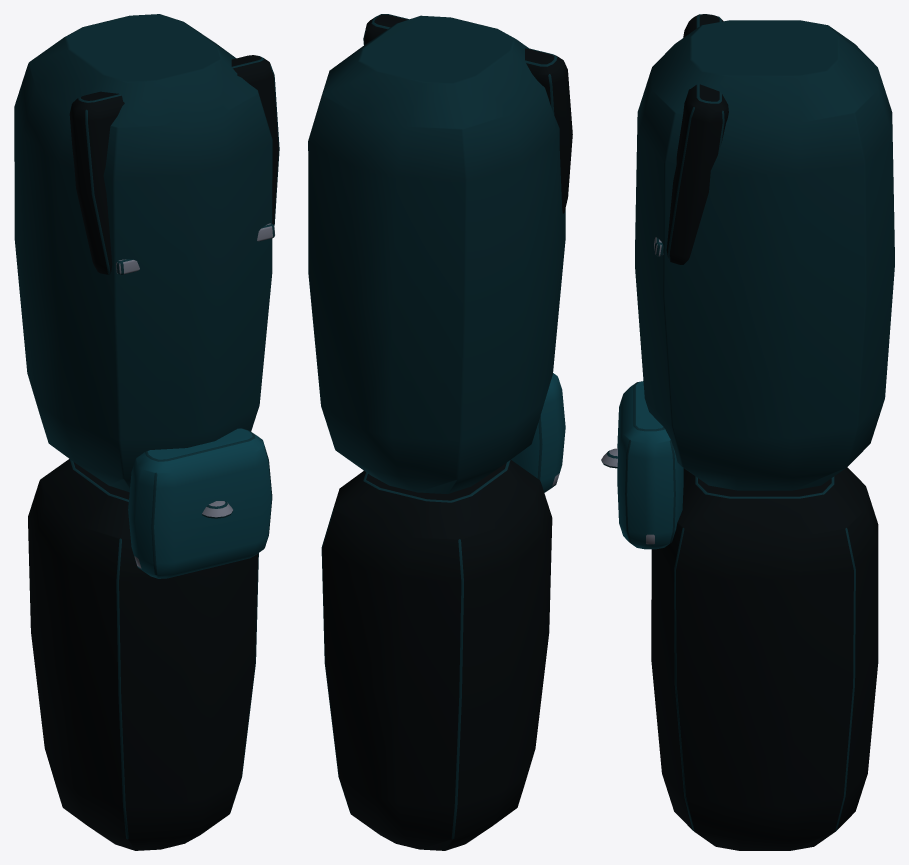
Rendered from Trama_CalcaR.fbx.
The picture shows the model from 3 angles, left to right: view 1: azimuth 30°, elevation 25°; view 2: azimuth 150°, elevation 25°; view 3: azimuth 270°, elevation 25°; orthographic projection.
Parts seen in each view (by area): view 1: Piece; view 2: Piece; view 3: Piece.
Part boxes in pixels (x1,y1,x2,y2): Piece: (14, 14, 279, 850); Piece: (308, 14, 572, 850); Piece: (601, 14, 894, 850).
Bounding box in the file's own units: 0.2095 × 0.7561 × 0.2567.
